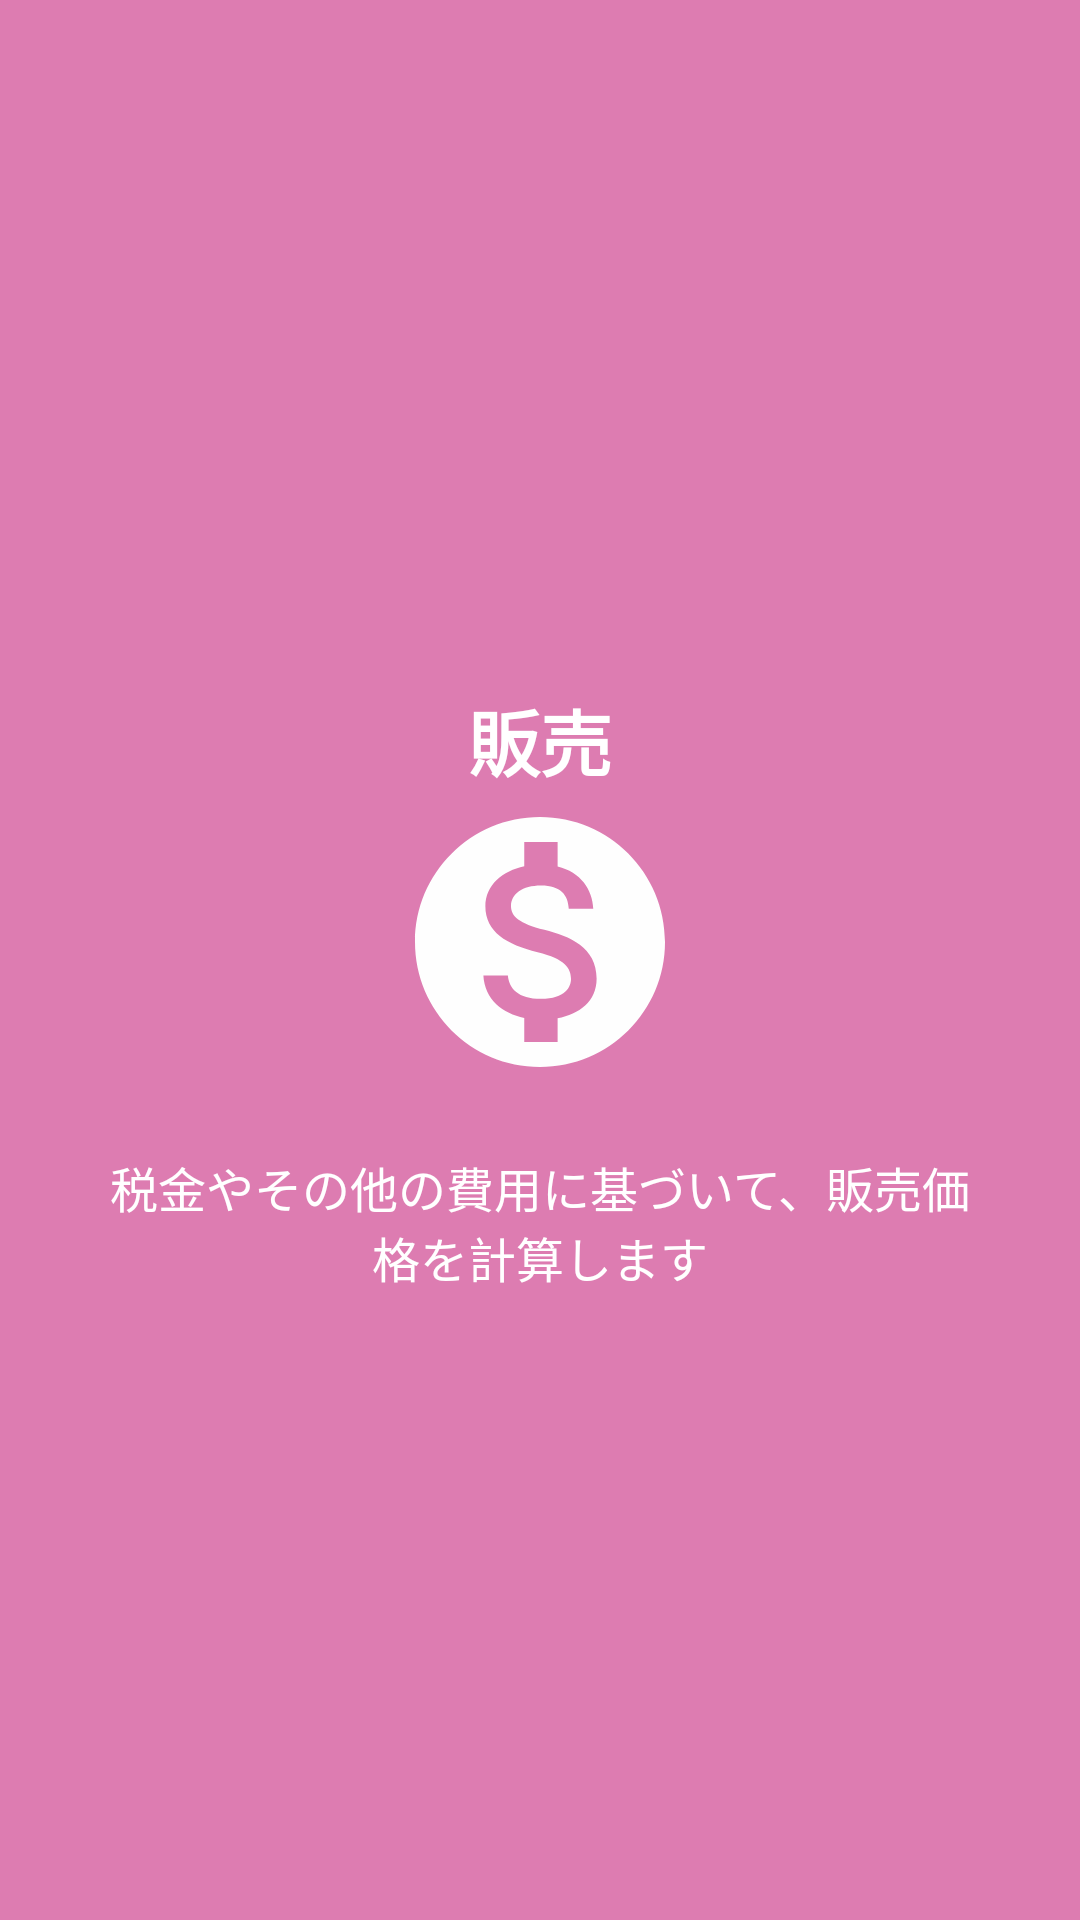

Where to tap for icons on this 1080x1920 app screen, as (x=x, y=y):
monetization: (x=540, y=942)
